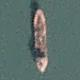ship: (0, 2, 19, 77)
